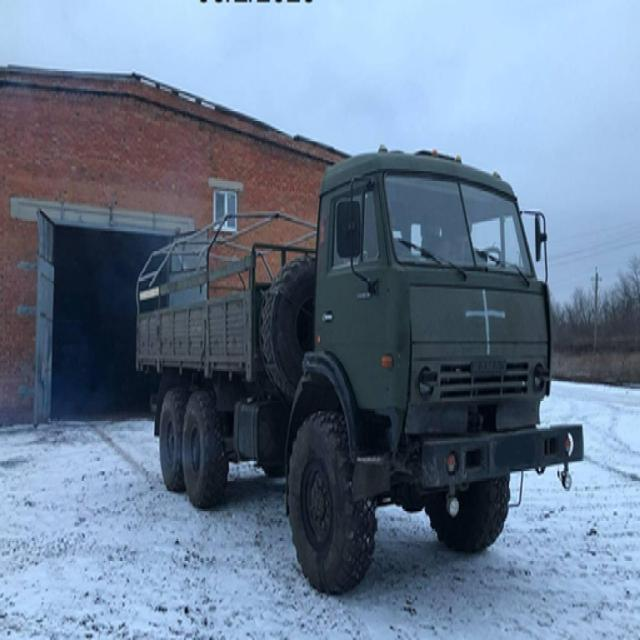TRUCK: (128, 136, 588, 604)
